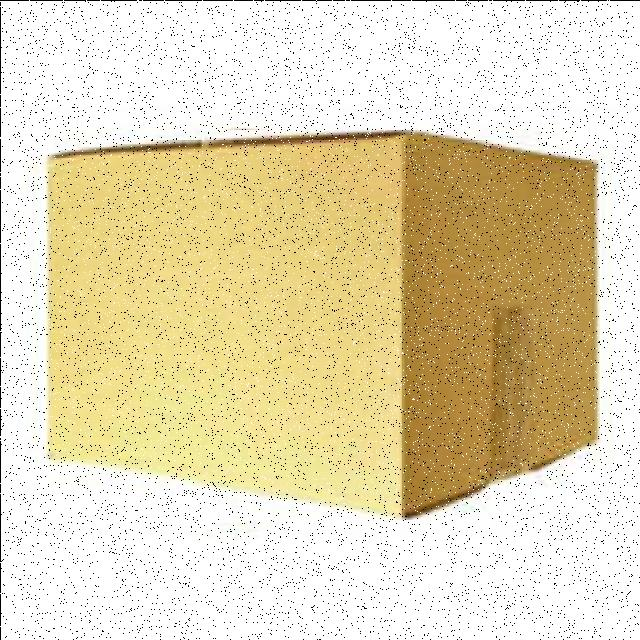normal: (38, 129, 604, 520)
